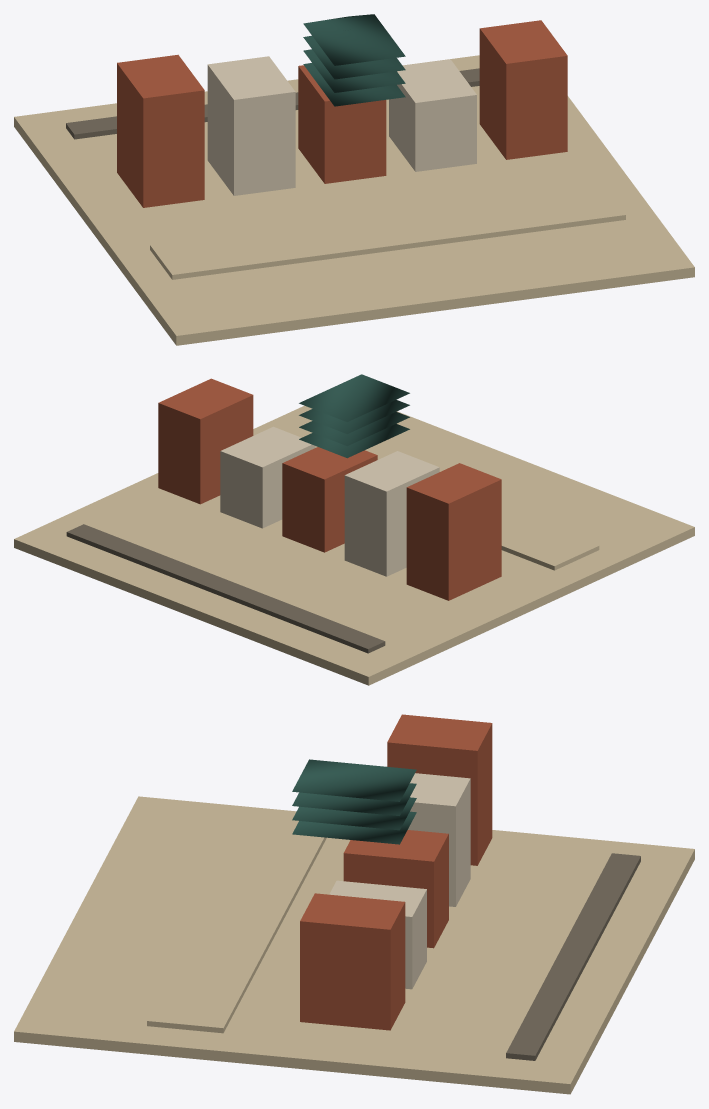
File: model-medium.glb
3 renders of one model, top to bottom at view 1: azimuth 30°, elevation 25°; view 2: azimuth 150°, elevation 25°; view 3: azimuth 270°, elevation 25°, orthographic. The views are drawn at different scales.
Visible parts, largest first — view 1: context_site_plinth, street_public_axis, street_facade_0, street_facade_1, street_facade_4, street_facade_3, street_facade_2, street_roof_0, street_roof_1, street_roof_3, street_roof_2, front_scale_strip; view 2: context_site_plinth, street_facade_0, street_facade_4, street_facade_1, street_facade_2, front_scale_strip, street_facade_3, street_public_axis, street_roof_0, street_roof_1, street_roof_2, street_roof_3; view 3: context_site_plinth, street_public_axis, street_facade_4, street_facade_0, front_scale_strip, street_facade_2, street_facade_1, street_roof_0, street_facade_3, street_roof_1, street_roof_2, street_roof_3.
Part boxes in pixels (x1=…): context_site_plinth: x1=14, y1=55, x2=694, y2=345; street_public_axis: x1=150, y1=185, x2=625, y2=279; street_facade_0: x1=117, y1=54, x2=204, y2=207; street_facade_1: x1=207, y1=56, x2=295, y2=195; street_facade_4: x1=479, y1=20, x2=567, y2=159; street_facade_3: x1=389, y1=59, x2=476, y2=171; street_facade_2: x1=298, y1=65, x2=386, y2=183; street_roof_0: x1=303, y1=14, x2=405, y2=65; street_roof_1: x1=303, y1=29, x2=405, y2=79; street_roof_3: x1=303, y1=63, x2=405, y2=106; street_roof_2: x1=303, y1=49, x2=405, y2=92; front_scale_strip: x1=66, y1=68, x2=479, y2=139; context_site_plinth: x1=14, y1=405, x2=694, y2=685; street_facade_0: x1=406, y1=463, x2=501, y2=600; street_facade_4: x1=158, y1=378, x2=253, y2=504; street_facade_1: x1=344, y1=451, x2=439, y2=576; street_facade_2: x1=282, y1=447, x2=377, y2=552; front_scale_strip: x1=66, y1=524, x2=385, y2=653; street_facade_3: x1=220, y1=426, x2=315, y2=528; street_public_axis: x1=280, y1=425, x2=599, y2=570; street_roof_0: x1=299, y1=374, x2=409, y2=421; street_roof_1: x1=299, y1=399, x2=409, y2=433; street_roof_2: x1=299, y1=411, x2=409, y2=446; street_roof_3: x1=299, y1=423, x2=409, y2=458; context_site_plinth: x1=14, y1=796, x2=694, y2=1094; street_public_axis: x1=147, y1=815, x2=326, y2=1033; street_facade_4: x1=300, y1=893, x2=405, y2=1030; street_facade_0: x1=387, y1=714, x2=492, y2=865; front_scale_strip: x1=506, y1=853, x2=640, y2=1060; street_facade_2: x1=343, y1=830, x2=448, y2=948; street_facade_1: x1=408, y1=773, x2=470, y2=906; street_roof_0: x1=292, y1=759, x2=416, y2=801; street_facade_3: x1=329, y1=880, x2=426, y2=989; street_roof_1: x1=292, y1=783, x2=416, y2=815; street_roof_2: x1=292, y1=797, x2=416, y2=830; street_roof_3: x1=292, y1=811, x2=416, y2=844.
Size of the model in its own units: 9.55 by 2.89 by 9.55.
